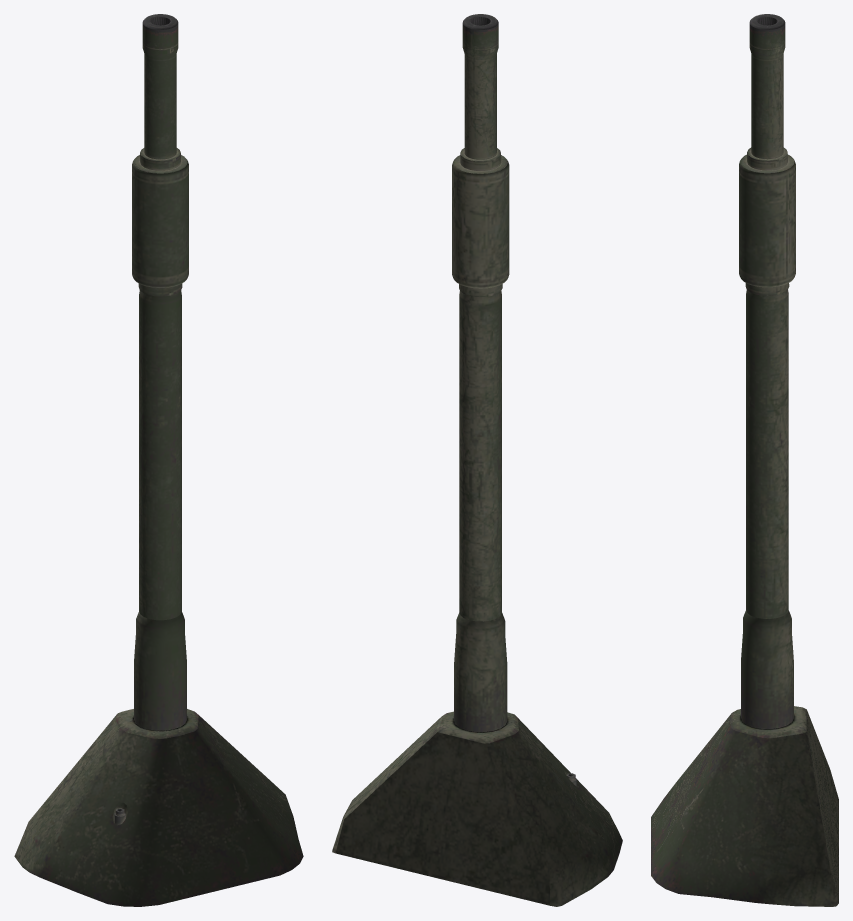
Rendered from Gun_03.glb.
3 views of the same model, side by side, from view 1: azimuth 30°, elevation 25°; view 2: azimuth 150°, elevation 25°; view 3: azimuth 270°, elevation 25° (orthographic).
Parts seen in each view (by area): view 1: set_0_group_0; view 2: set_0_group_0; view 3: set_0_group_0.
Part boxes in pixels (x1,y1,x2,y2): set_0_group_0: (14, 14, 303, 906); set_0_group_0: (332, 14, 622, 906); set_0_group_0: (651, 14, 838, 906).
Size of the model in its own units: 1.11 by 3.42 by 0.7005.
Materials: 1 (1 with a texture image).
